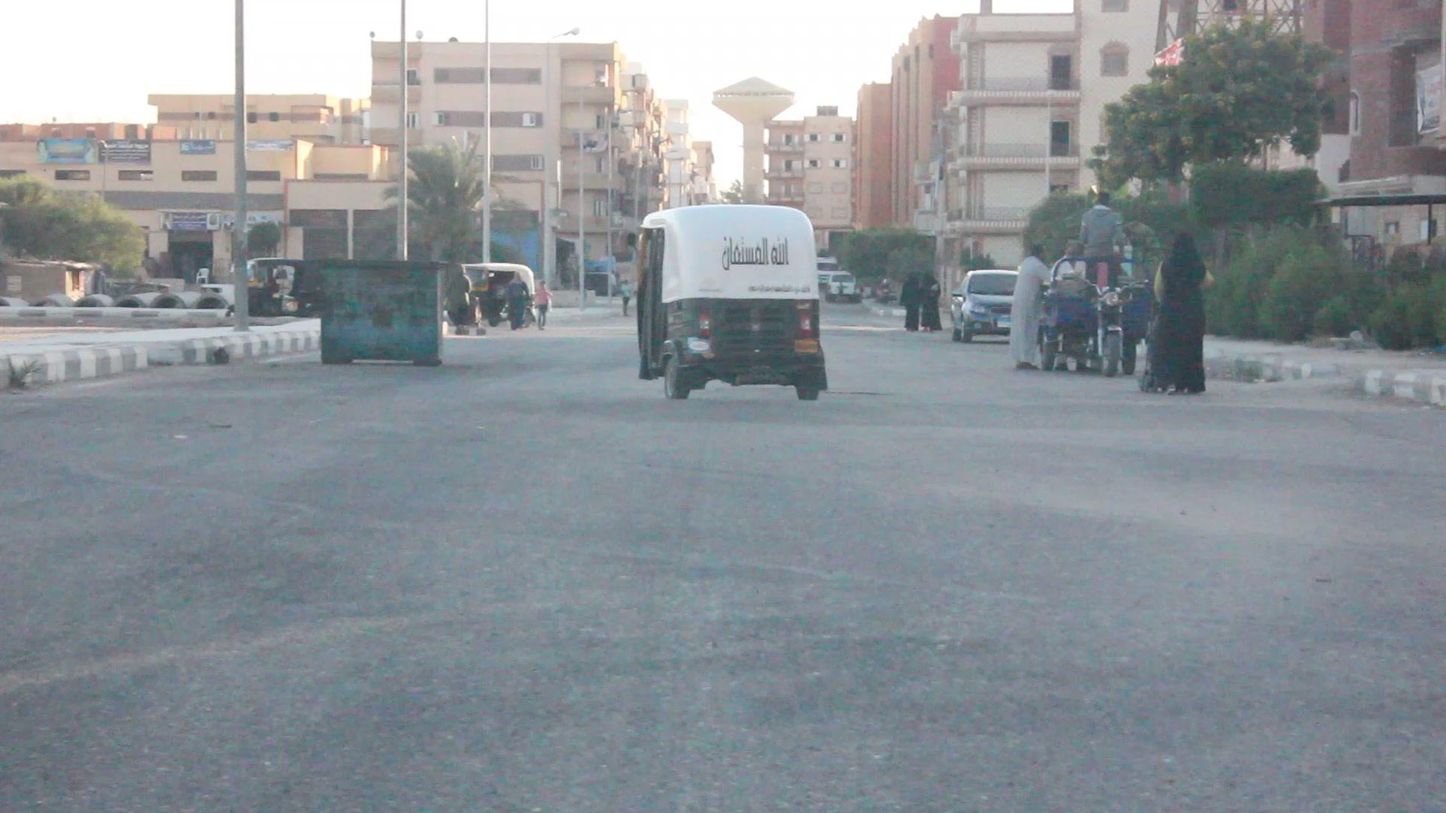Bump: (21, 380, 1445, 441)
